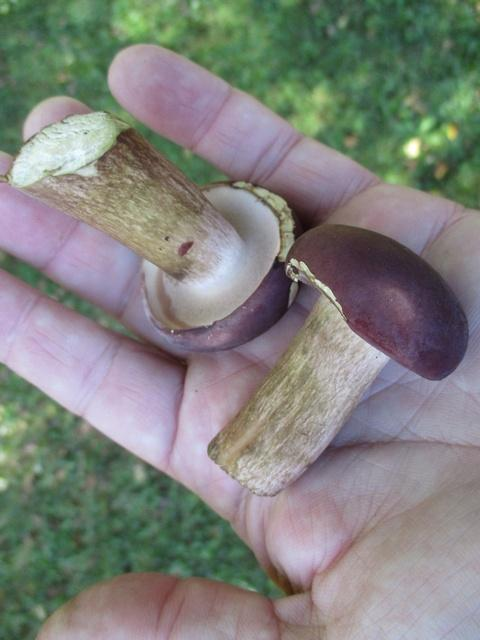Non-edible Mushroom: (205, 221, 469, 497), (23, 114, 274, 331)
